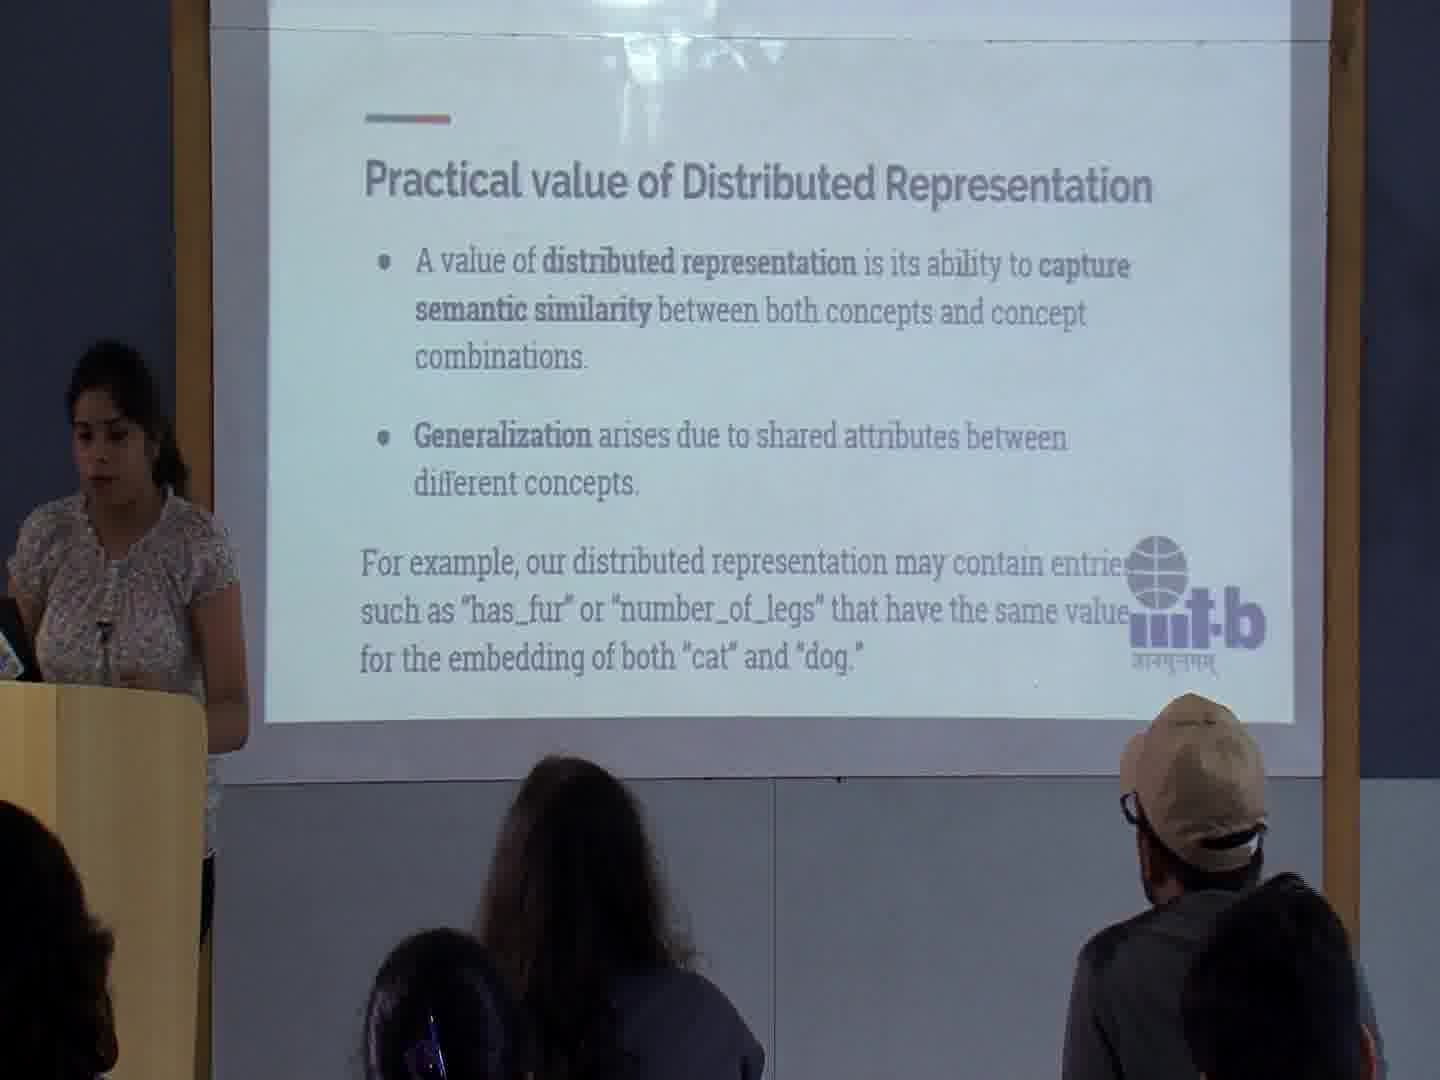slide: (266, 2, 1291, 720)
